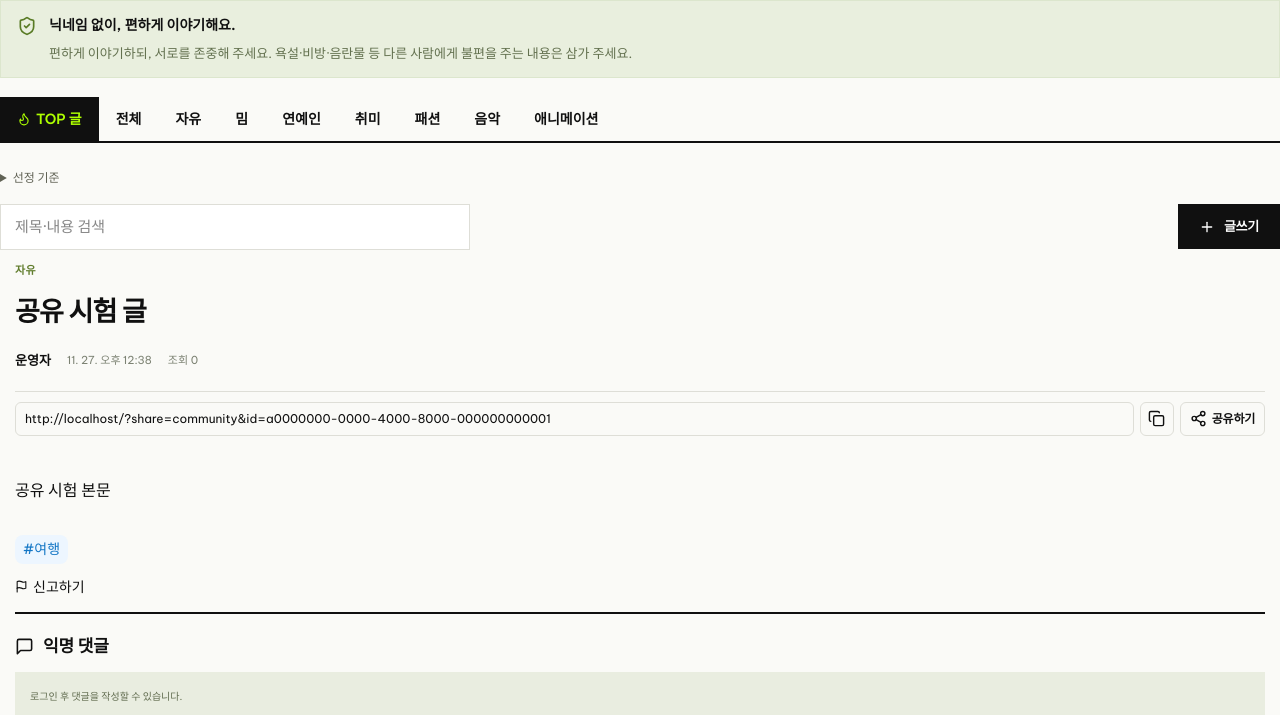
Test: a shared post opens directly and its link can be copied
Check: the text "공유 시험 본문" is shown, box [15,480,111,500]
Check: the text "운영자" is shown, box [15,350,51,371]
Click the button named "링크 복사" at (1157, 419), box [1140,402,1174,436]
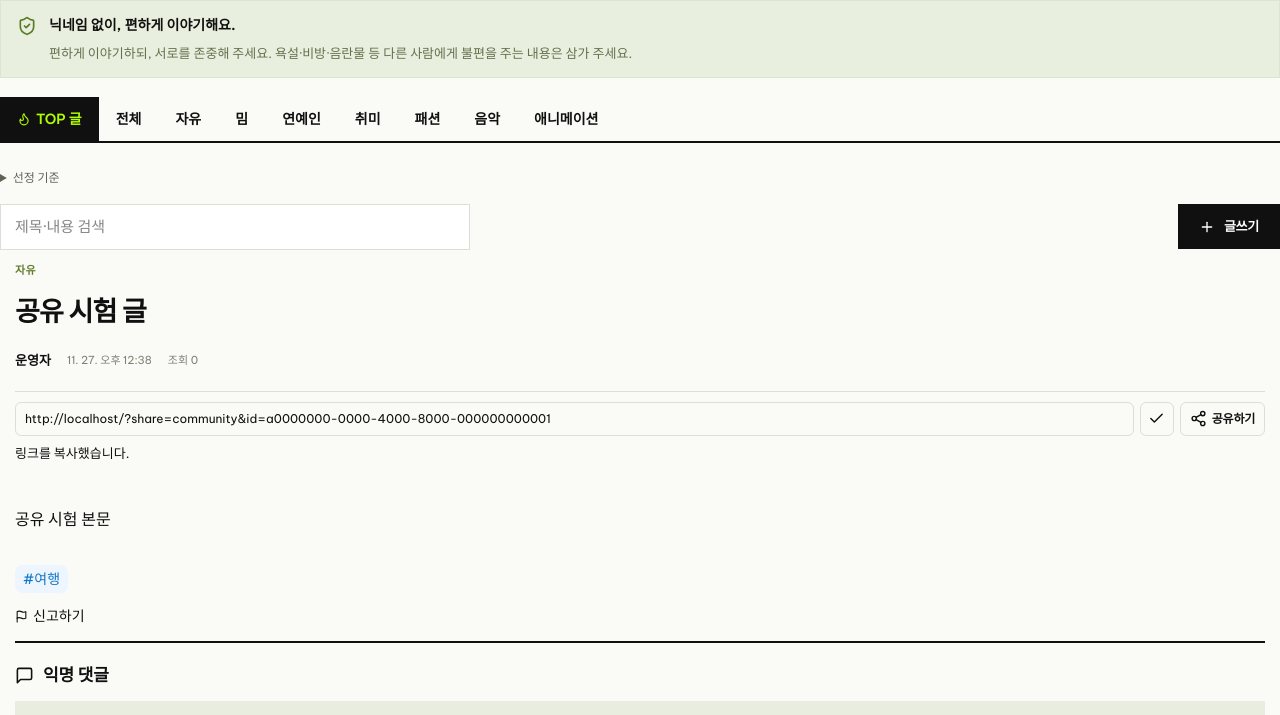
Check: the text "링크를 복사했습니다." is shown, box [15,445,129,461]
Click the button "공유하기" at (1222, 419), box [1180,402,1265,436]
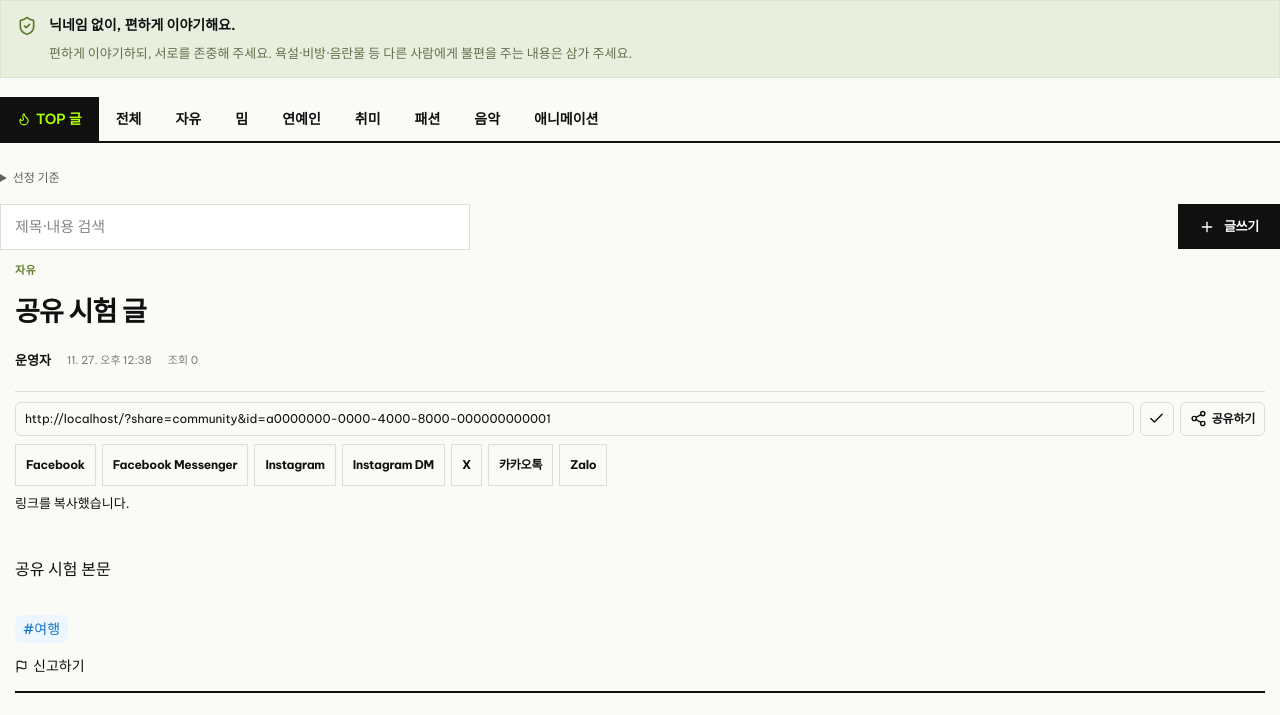
Check: the link "Facebook" is shown, box [15,444,96,486]
Check: the link "X" is shown, box [451,444,482,486]
Check: the button "Facebook Messenger" is shown, box [102,444,248,486]
